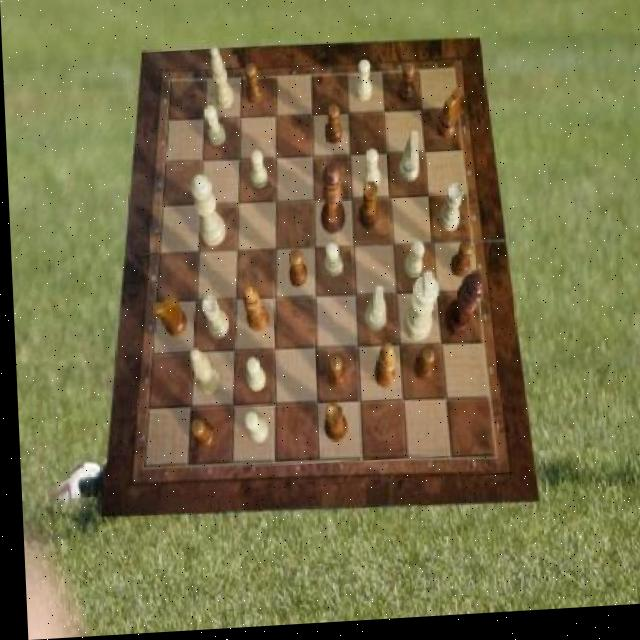bishop: (240, 288, 266, 337), (369, 347, 393, 394)
black-bishop: (439, 276, 482, 344)
black-king: (433, 92, 462, 145), (150, 298, 184, 339)
black-knight: (446, 247, 471, 284), (409, 351, 433, 387), (186, 420, 211, 454), (396, 67, 415, 109), (321, 109, 340, 150), (243, 66, 262, 107), (286, 254, 304, 291), (322, 357, 340, 392)
black-pawn: (316, 166, 343, 238)
black-queen: (355, 186, 376, 235), (318, 407, 342, 446)
black-rook: (209, 48, 233, 111), (186, 349, 215, 398)
white-bishop: (398, 277, 437, 347)
white-king: (394, 136, 416, 188), (359, 291, 383, 338)
white-knight: (203, 107, 224, 149), (401, 246, 423, 284), (239, 413, 263, 447), (352, 63, 370, 106), (247, 154, 266, 194), (241, 359, 262, 395), (360, 154, 378, 195), (321, 246, 340, 282)
white-pawn: (187, 175, 223, 250)
white-queen: (435, 190, 461, 238), (199, 298, 226, 343)
